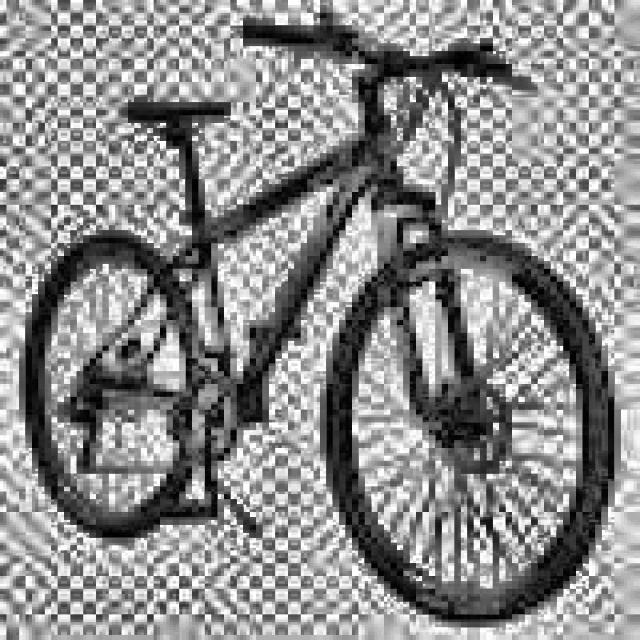bike: (14, 19, 617, 638)
